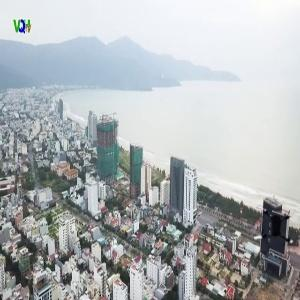drone: (246, 202, 299, 255)
